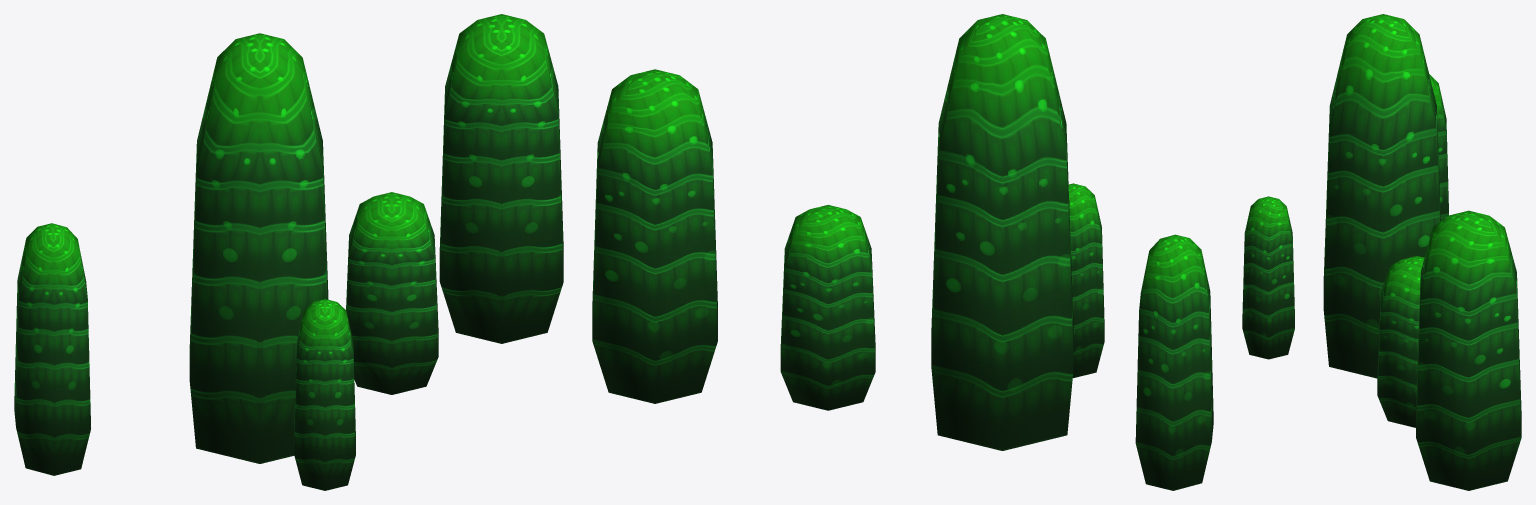
File: Coral_15b.FBX
3 views of the same model, side by side, from view 1: azimuth 30°, elevation 25°; view 2: azimuth 150°, elevation 25°; view 3: azimuth 270°, elevation 25° (orthographic). The views are drawn at different scales.
Visible parts, largest first — view 1: Coral_15b; view 2: Coral_15b; view 3: Coral_15b.
Boxes of the visible parts, bbox=[...] form: Coral_15b: bbox=[14, 14, 563, 490]; Coral_15b: bbox=[592, 14, 1213, 490]; Coral_15b: bbox=[1242, 14, 1521, 490].
Bounding box in the file's own units: 128 × 83.41 × 62.66.
